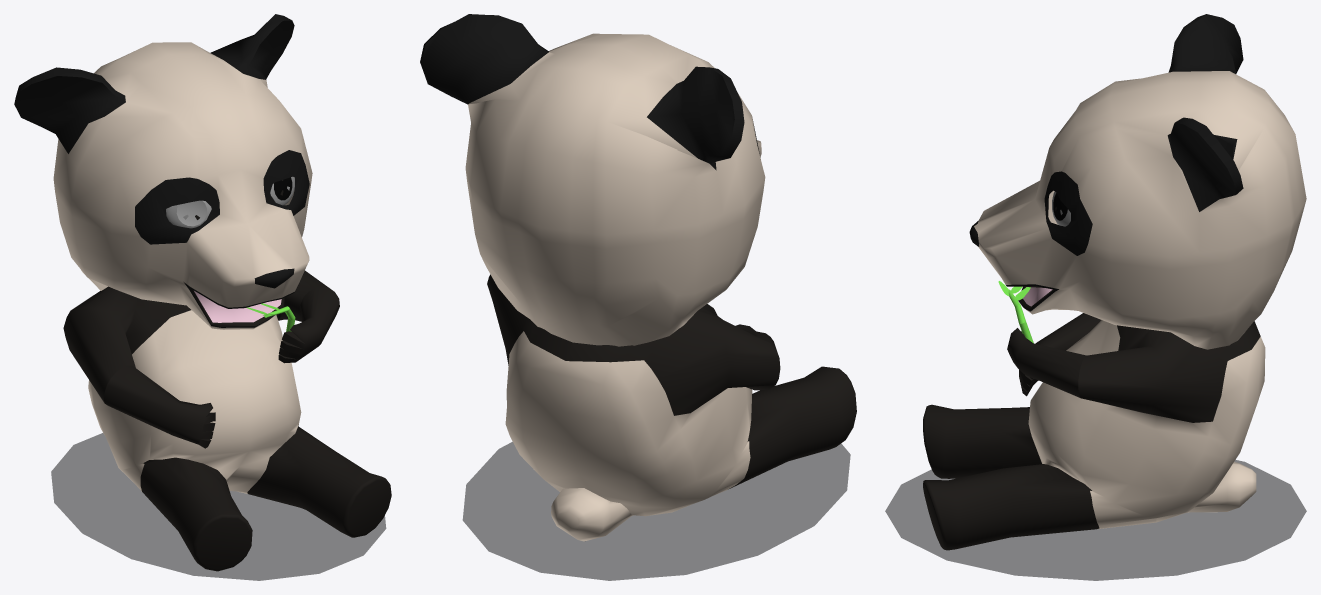
Rendered from ronron.glb.
3 renders of one model, left to right at view 1: azimuth 30°, elevation 25°; view 2: azimuth 150°, elevation 25°; view 3: azimuth 270°, elevation 25°, orthographic. The views are drawn at different scales.
Parts seen in each view (by area): view 1: sasa, shadow; view 2: sasa, shadow; view 3: sasa, shadow.
Boxes of the visible parts, bbox=[...] form: sasa: bbox=[14, 14, 391, 571]; shadow: bbox=[51, 433, 386, 580]; sasa: bbox=[420, 14, 856, 541]; shadow: bbox=[462, 442, 850, 580]; sasa: bbox=[923, 14, 1306, 550]; shadow: bbox=[885, 460, 1306, 580].
Bounding box in the file's own units: 1.03 × 1.5 × 1.3.
